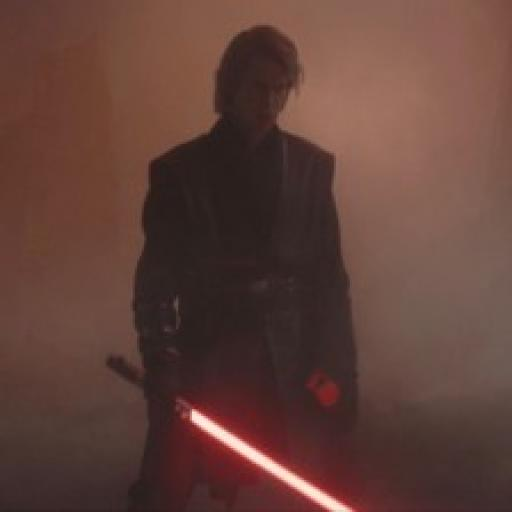human: (106, 22, 360, 510)
sith saber: (105, 353, 358, 512)
